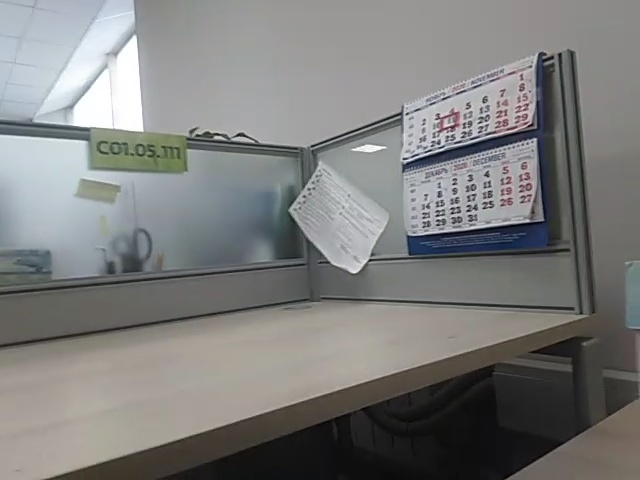table: (89, 126, 189, 173)
